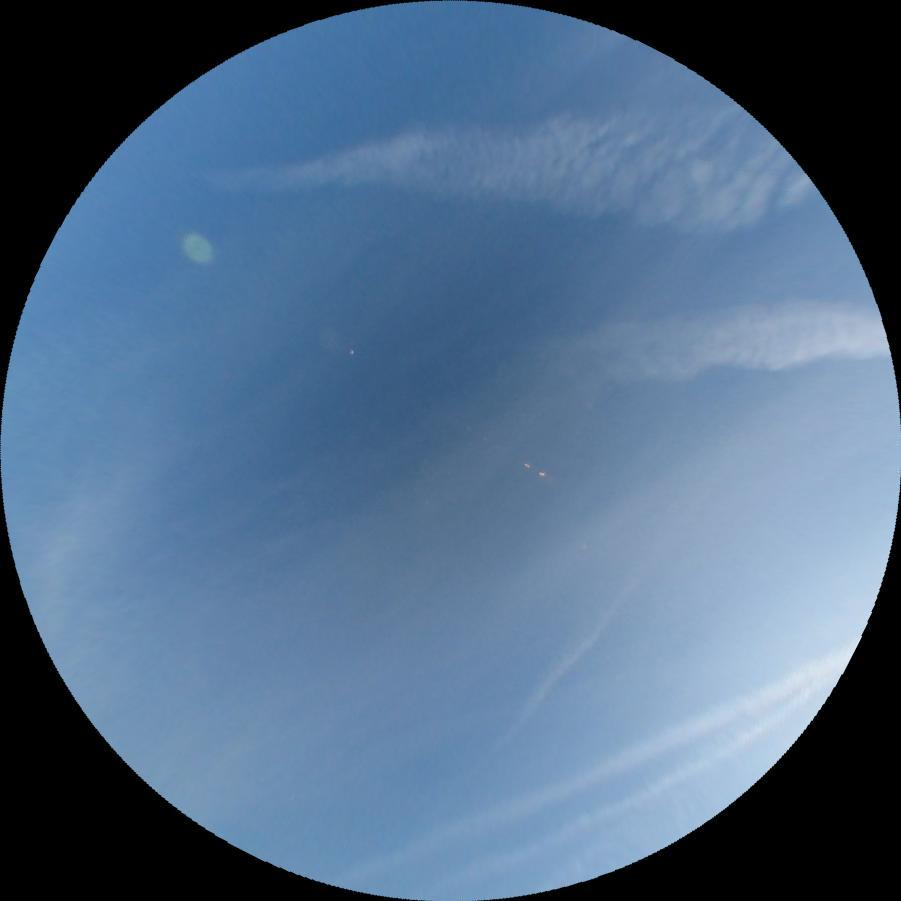contrail veryold: (333, 639, 863, 900), (215, 107, 818, 254), (499, 290, 893, 405)
